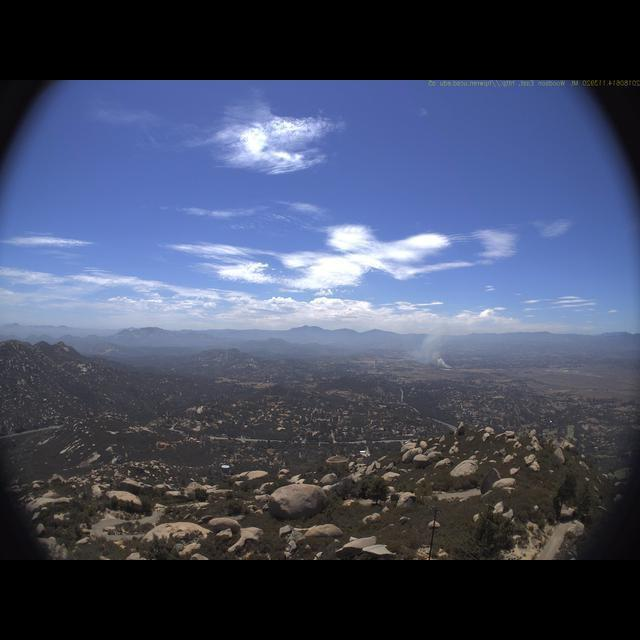Smoke: (404, 318, 454, 371)
